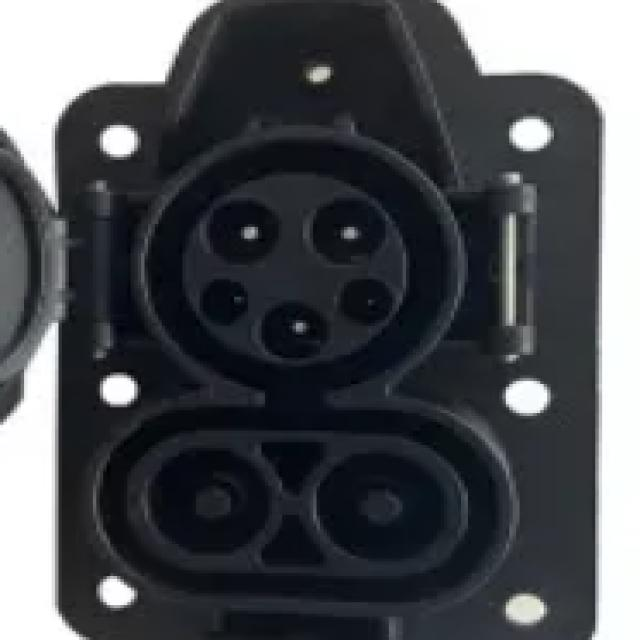CCS1: (61, 135, 567, 621)
